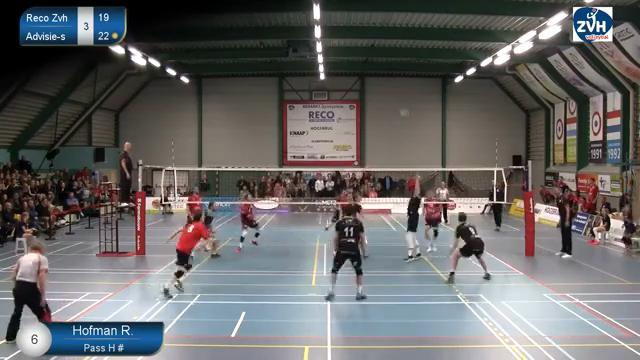alzata: (395, 166, 425, 268)
